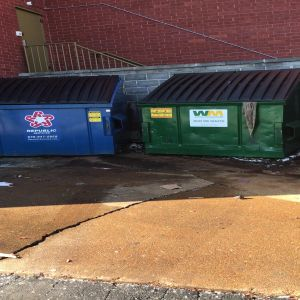Dumpster: (134, 69, 300, 159), (2, 72, 128, 159)
